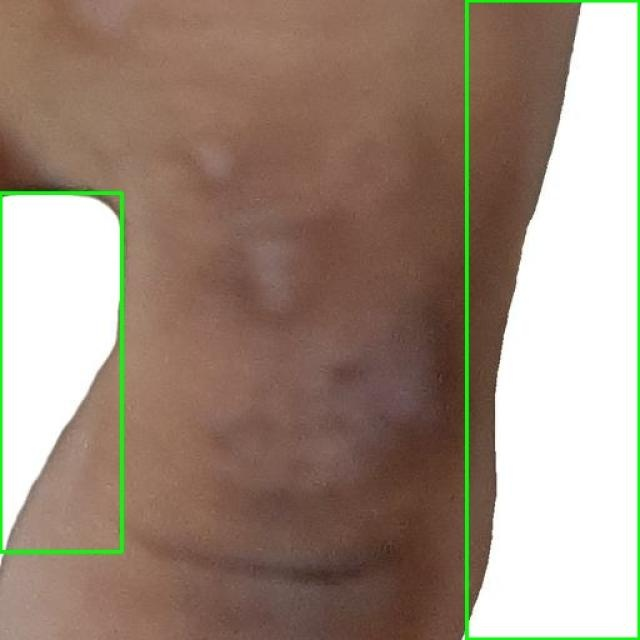Contact Dermatitis: (466, 0, 639, 639), (0, 192, 121, 551)
